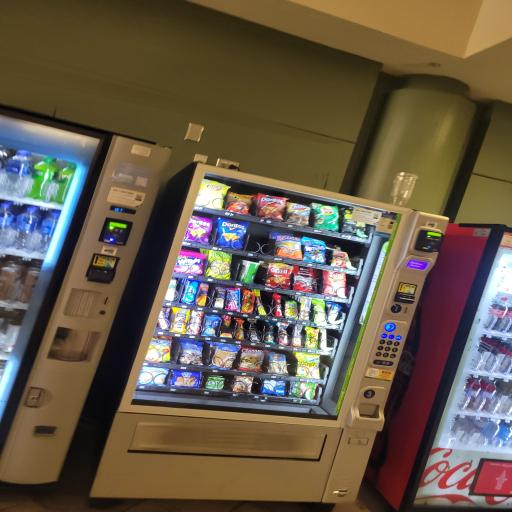vending machine: (85, 199, 445, 512), (0, 119, 171, 473), (412, 194, 512, 512)
